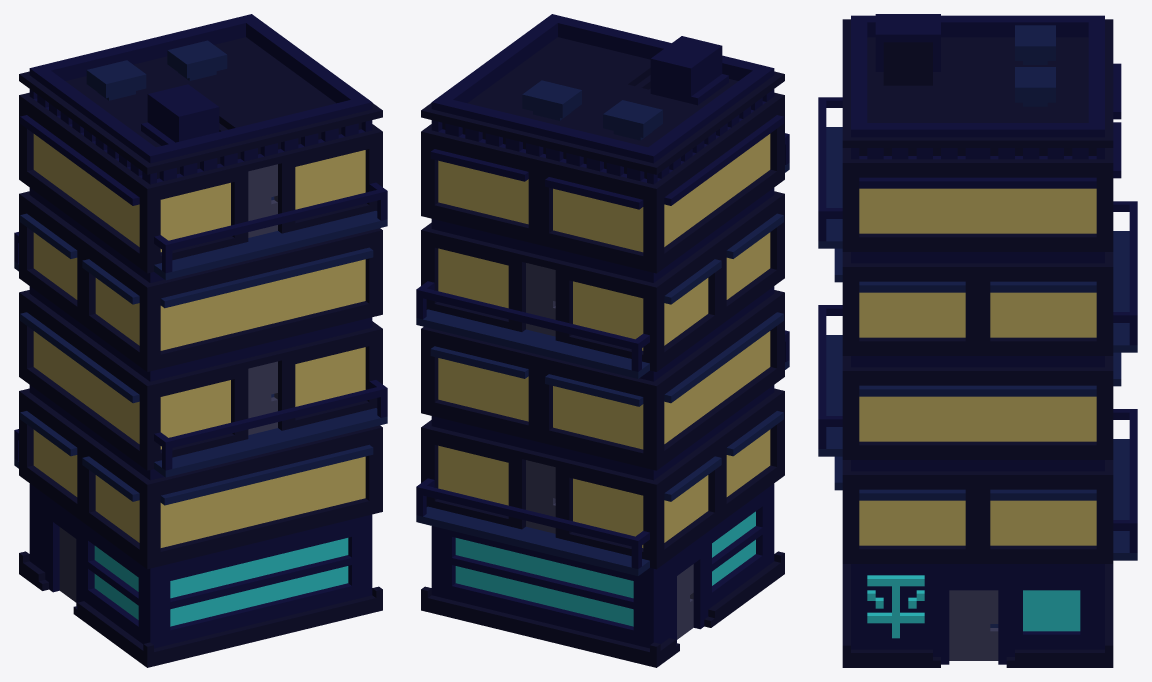
The model's file is SM_Environment_Building1.fbx.
The picture shows the model from 3 angles, left to right: view 1: azimuth 30°, elevation 25°; view 2: azimuth 150°, elevation 25°; view 3: azimuth 270°, elevation 25°; orthographic projection. The views are drawn at different scales.
Visible parts, largest first — view 1: SM_Environment_Building1; view 2: SM_Environment_Building1; view 3: SM_Environment_Building1.
Part boxes in pixels (x1=…): SM_Environment_Building1: x1=14, y1=14, x2=387, y2=667; SM_Environment_Building1: x1=416, y1=14, x2=789, y2=667; SM_Environment_Building1: x1=818, y1=14, x2=1137, y2=667.
Bounding box in the file's own units: 740 × 1500 × 780.
3 materials, 1 textured.
